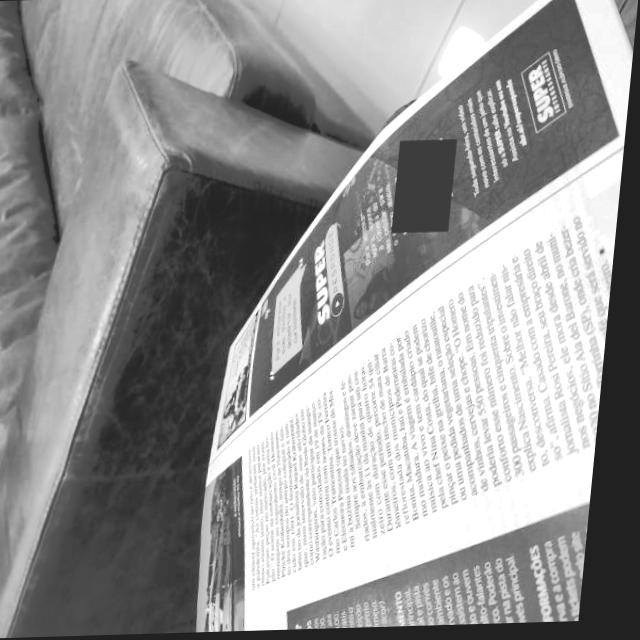qr_code: (397, 142, 459, 234)
